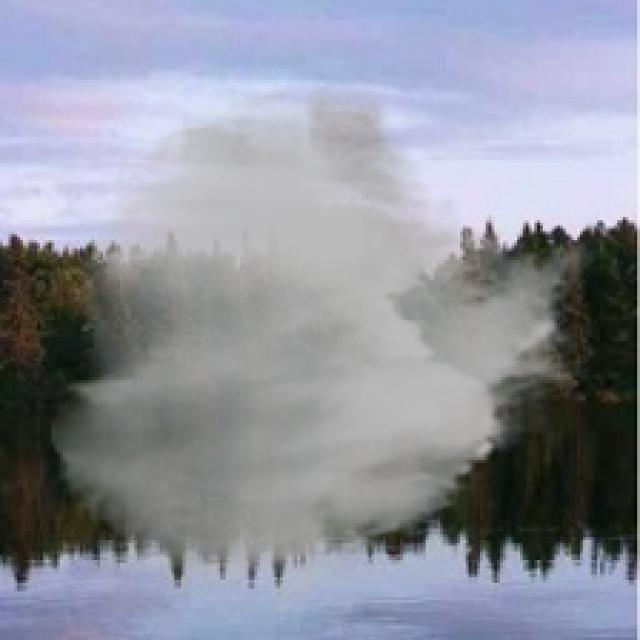Smoke: (45, 86, 598, 614)
